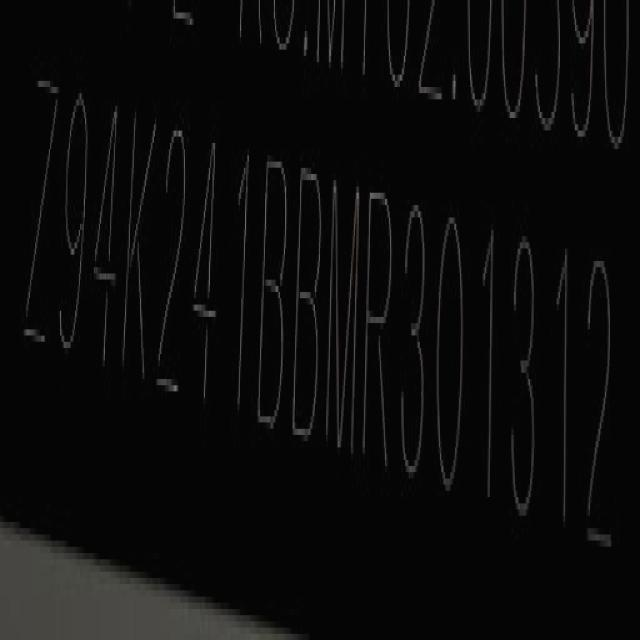0: (436, 221, 464, 499)
1: (477, 223, 500, 515), (230, 144, 252, 425), (556, 240, 573, 536)
2: (586, 256, 617, 551), (157, 128, 184, 403)
3: (512, 228, 542, 529), (401, 203, 431, 487)
4: (189, 129, 219, 396), (91, 99, 118, 370)
9: (56, 85, 90, 368)
B: (258, 154, 289, 438), (296, 161, 326, 450)
K: (125, 109, 158, 396)
M: (325, 159, 360, 460)
R: (366, 182, 397, 473)
Z: (23, 65, 53, 353)
